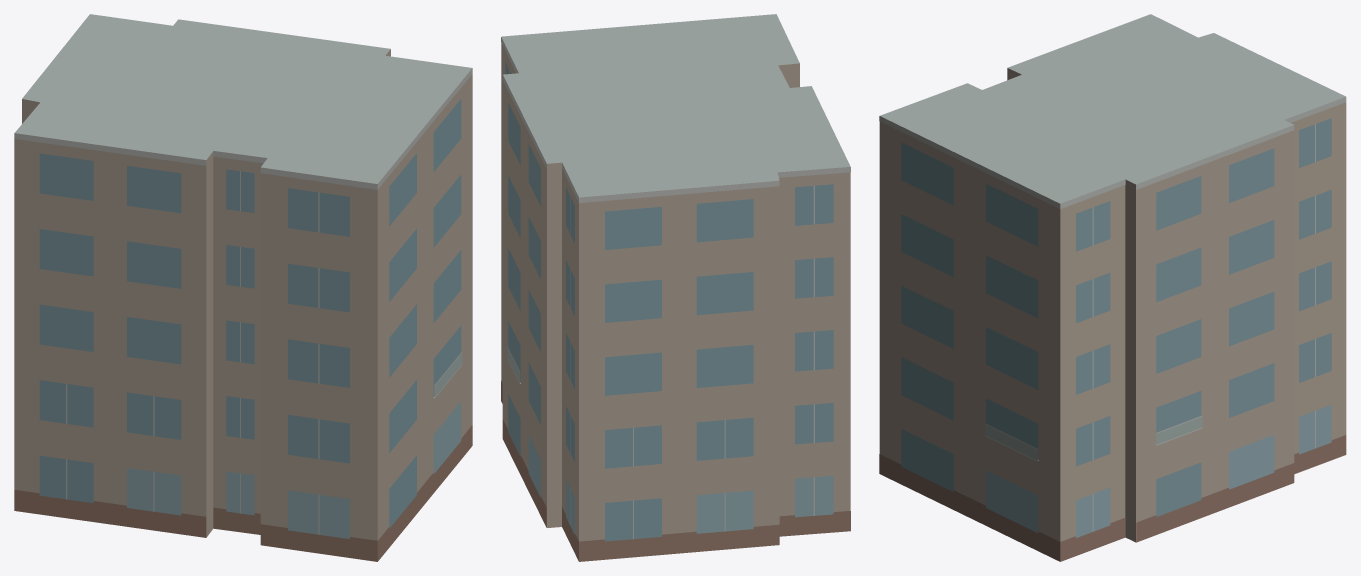
File: survey-upis-32673994.glb
3 views of the same model, side by side, from view 1: azimuth 30°, elevation 25°; view 2: azimuth 150°, elevation 25°; view 3: azimuth 270°, elevation 25° (orthographic). The views are drawn at different scales.
Parts seen in each view (by area): view 1: survey-upis-32673994.tmp; view 2: survey-upis-32673994.tmp; view 3: survey-upis-32673994.tmp.
Part boxes in pixels (bbox=[...]): survey-upis-32673994.tmp: bbox=[14, 14, 472, 561]; survey-upis-32673994.tmp: bbox=[501, 14, 850, 561]; survey-upis-32673994.tmp: bbox=[879, 14, 1346, 561].
Size of the model in its own units: 18.31 by 16.1 by 19.03.
